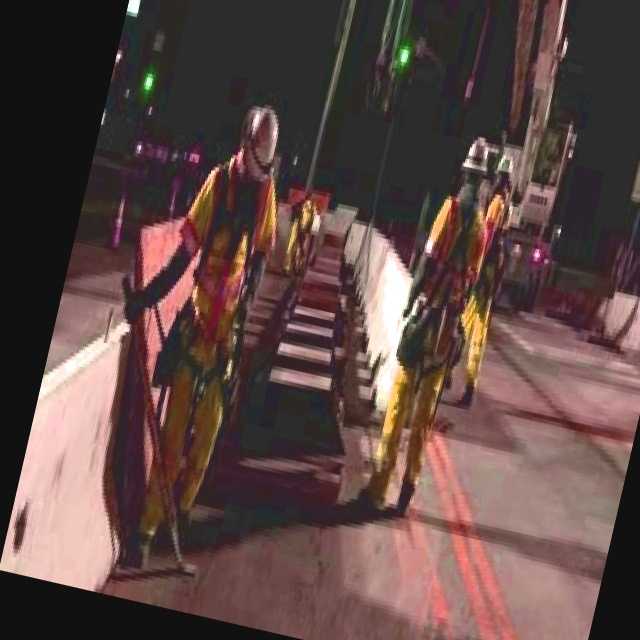Con_Chaleco: (177, 160, 279, 338), (413, 189, 497, 321)
